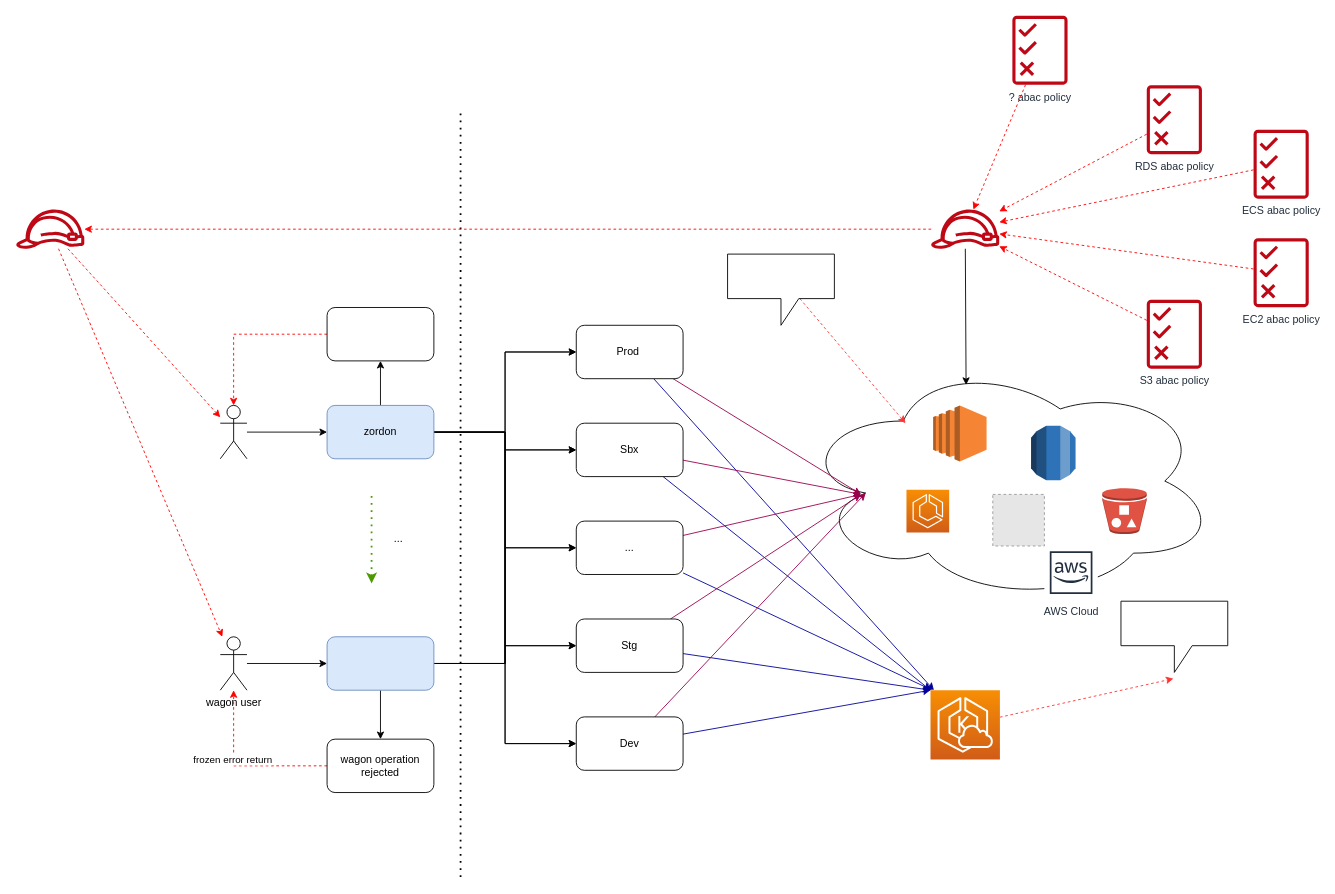
Image size: 1335x894. Some labels were removed from this diagram. Grey dashed boxes stand in for pictures. Each missing label, with the box of its shape:
Assumed Role: (15, 209, 85, 248)
IAM Role: (930, 209, 999, 248)
wagon: (326, 636, 434, 690)
Wagon Resources: (727, 253, 834, 325)
zordon operation rejected: (326, 307, 434, 361)
Zordon Resources: (1120, 600, 1228, 672)
zordon user: (219, 405, 247, 459)
